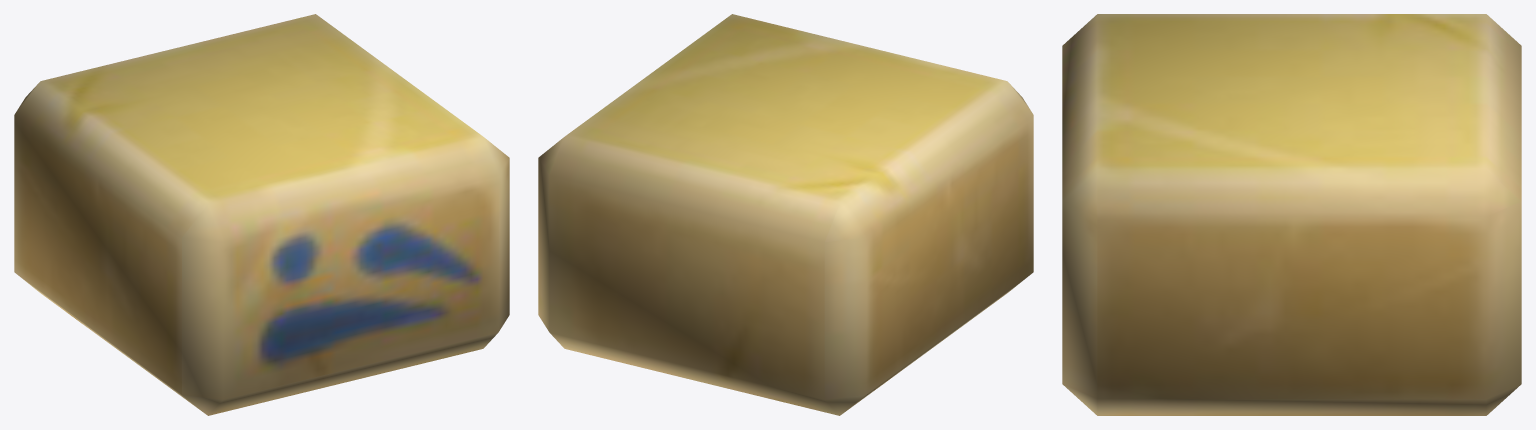
Rendered from DE_House_Mod_Part_107.fbx.
3 renders of one model, left to right at view 1: azimuth 30°, elevation 25°; view 2: azimuth 150°, elevation 25°; view 3: azimuth 270°, elevation 25°, orthographic. The views are drawn at different scales.
Visible parts, largest first — view 1: DE_House_Mod_Part_107; view 2: DE_House_Mod_Part_107; view 3: DE_House_Mod_Part_107.
Part boxes in pixels (bbox=[...]): DE_House_Mod_Part_107: bbox=[14, 14, 509, 415]; DE_House_Mod_Part_107: bbox=[538, 14, 1033, 415]; DE_House_Mod_Part_107: bbox=[1062, 14, 1521, 415].
Size of the model in its own units: 0.8521 by 0.5271 by 0.8914.
